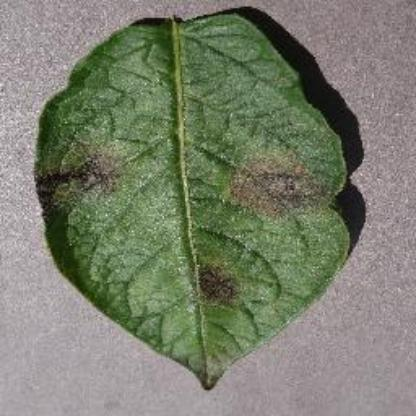Late-Blight: (34, 12, 360, 388)
